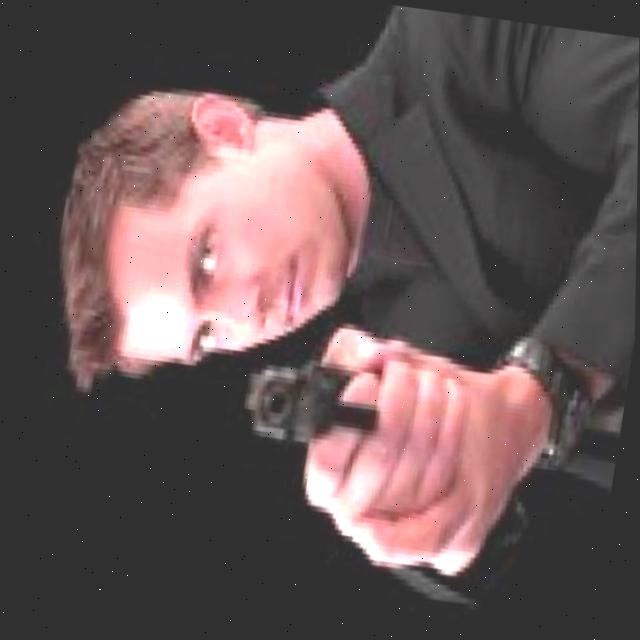pistol: (238, 292, 521, 531)
